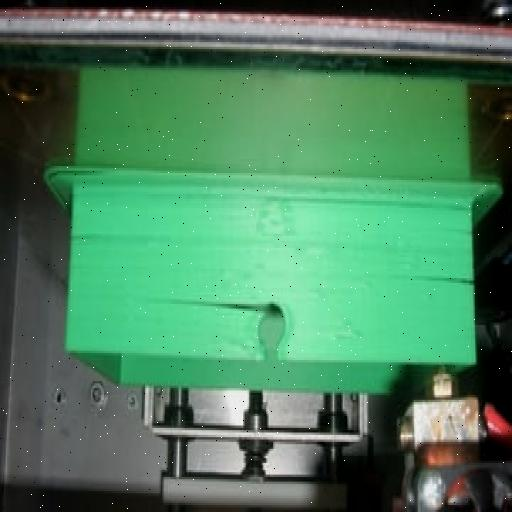cracks: (150, 280, 276, 326), (374, 256, 482, 296)
